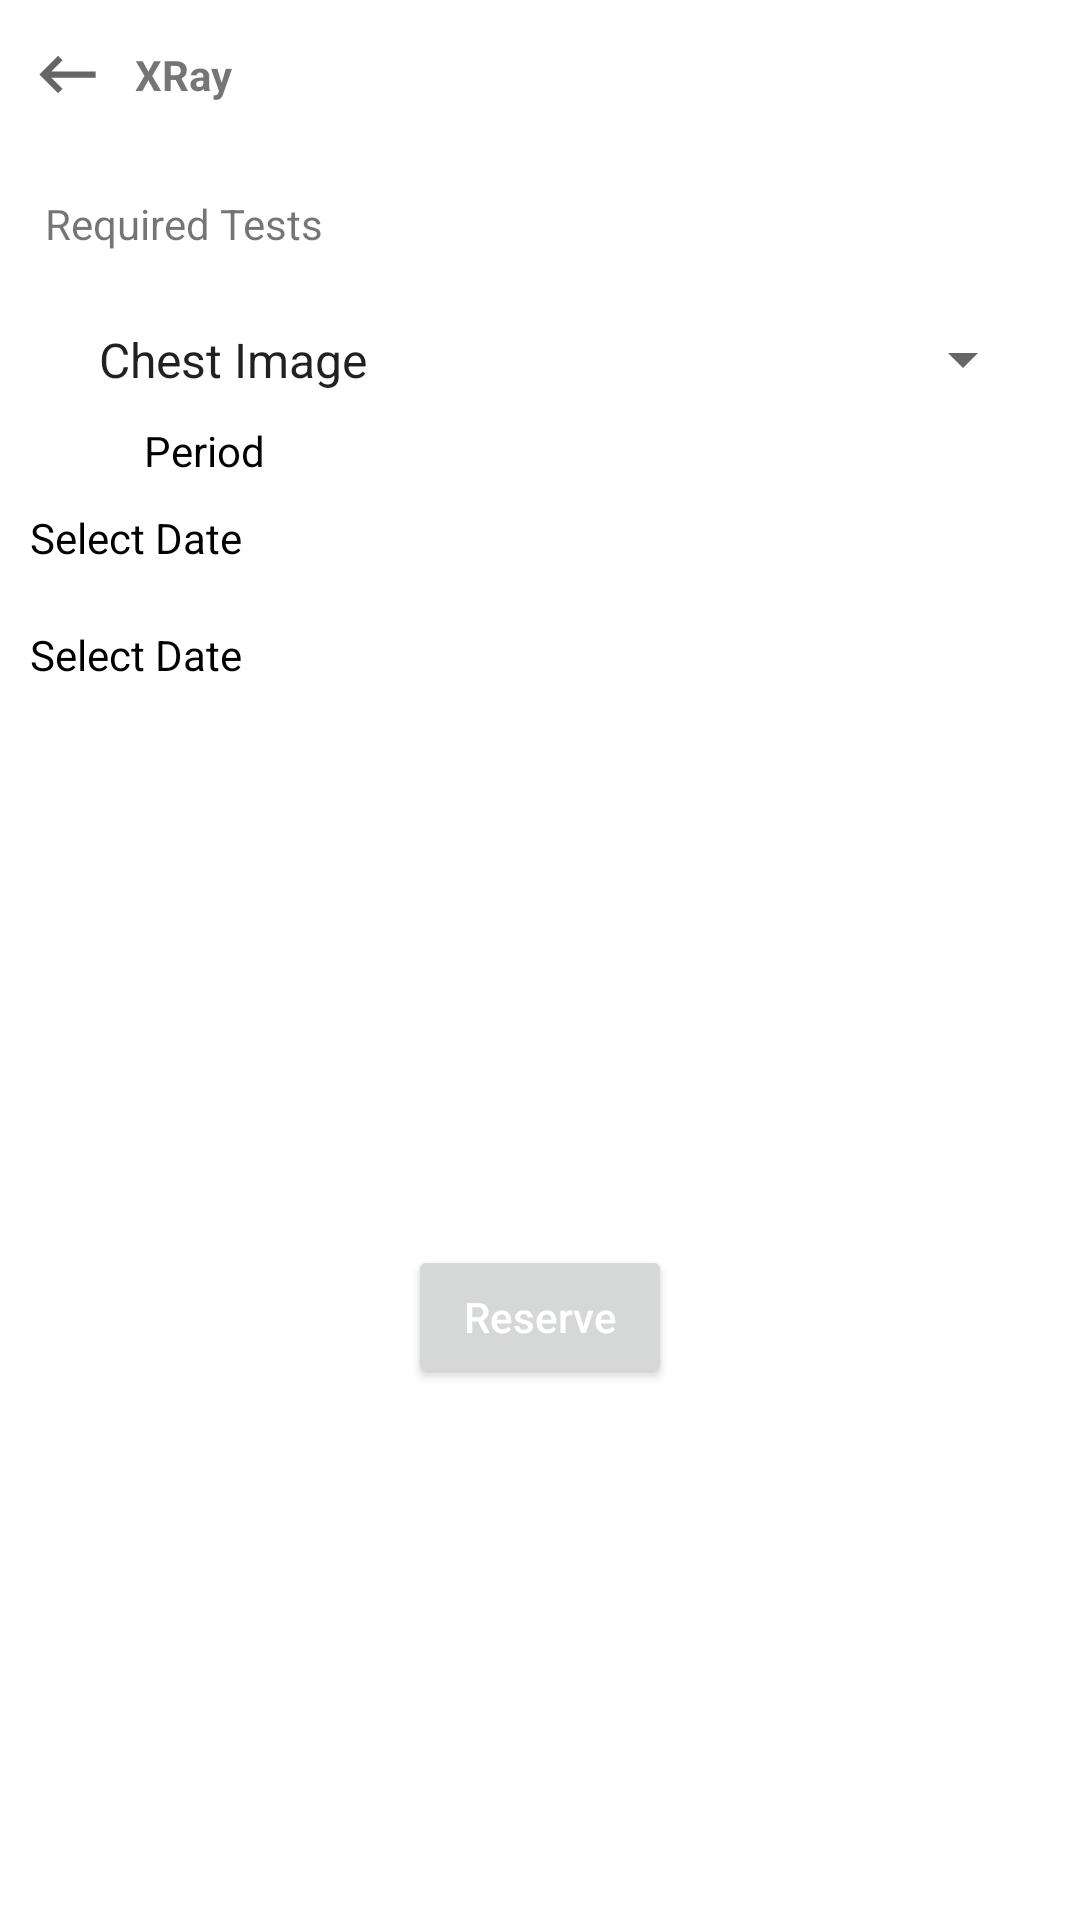

Named icons in this screenshot (1080x1920) and their centers, point (x, y):
back: point (67, 74)
